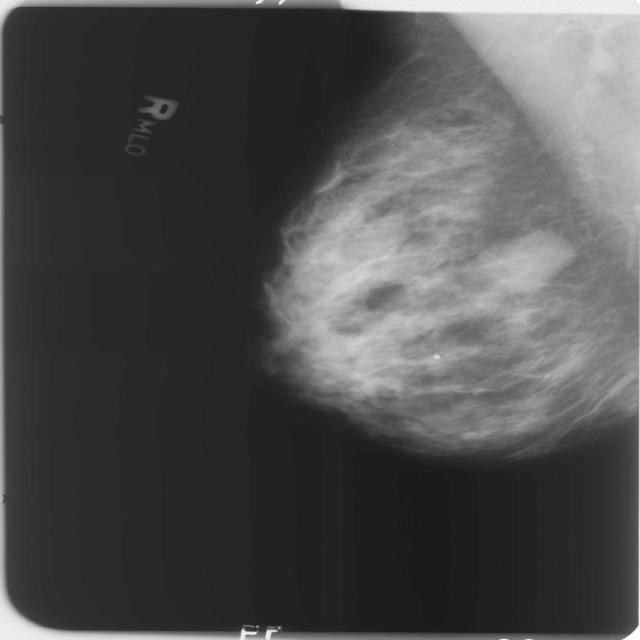tumour: (473, 228, 574, 292)
